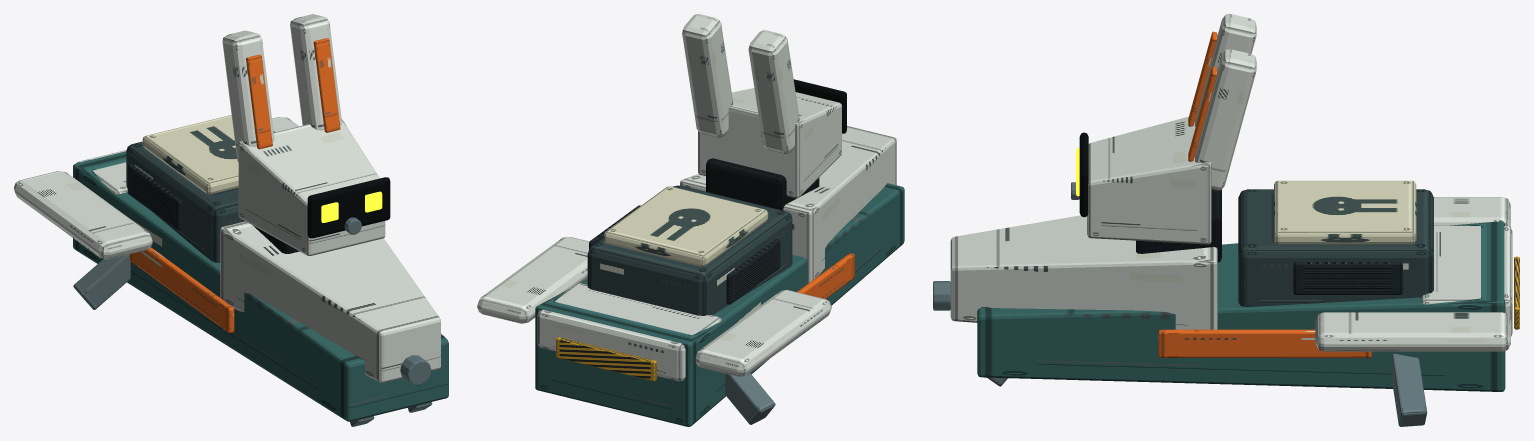
Rendered from SM_RabbitTrike_Body.fbx.
3 renders of one model, left to right at view 1: azimuth 30°, elevation 25°; view 2: azimuth 150°, elevation 25°; view 3: azimuth 270°, elevation 25°, orthographic. The views are drawn at different scales.
Visible parts, largest first — view 1: SM_RabbitTrike_Body; view 2: SM_RabbitTrike_Body; view 3: SM_RabbitTrike_Body.
Part boxes in pixels (x1,y1,x2,y2): SM_RabbitTrike_Body: (14,14,448,426); SM_RabbitTrike_Body: (477,14,904,426); SM_RabbitTrike_Body: (933,14,1519,426).
Size of the model in its own units: 114 by 198 by 125.
